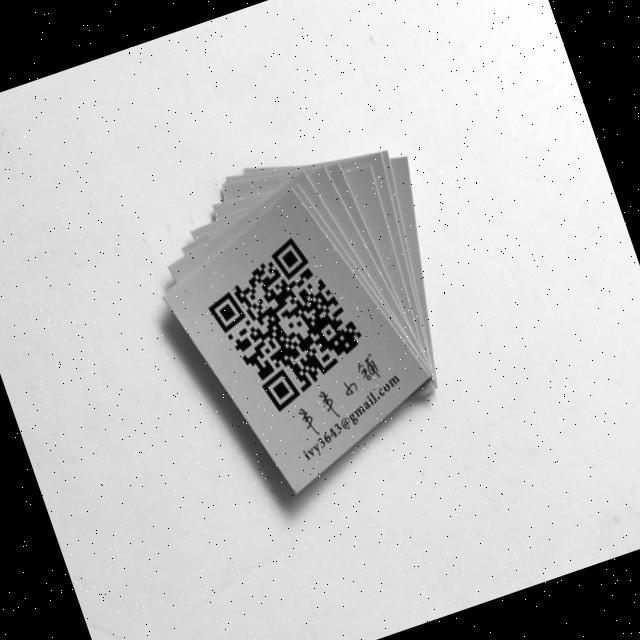QR-codes: (187, 218, 380, 421)
